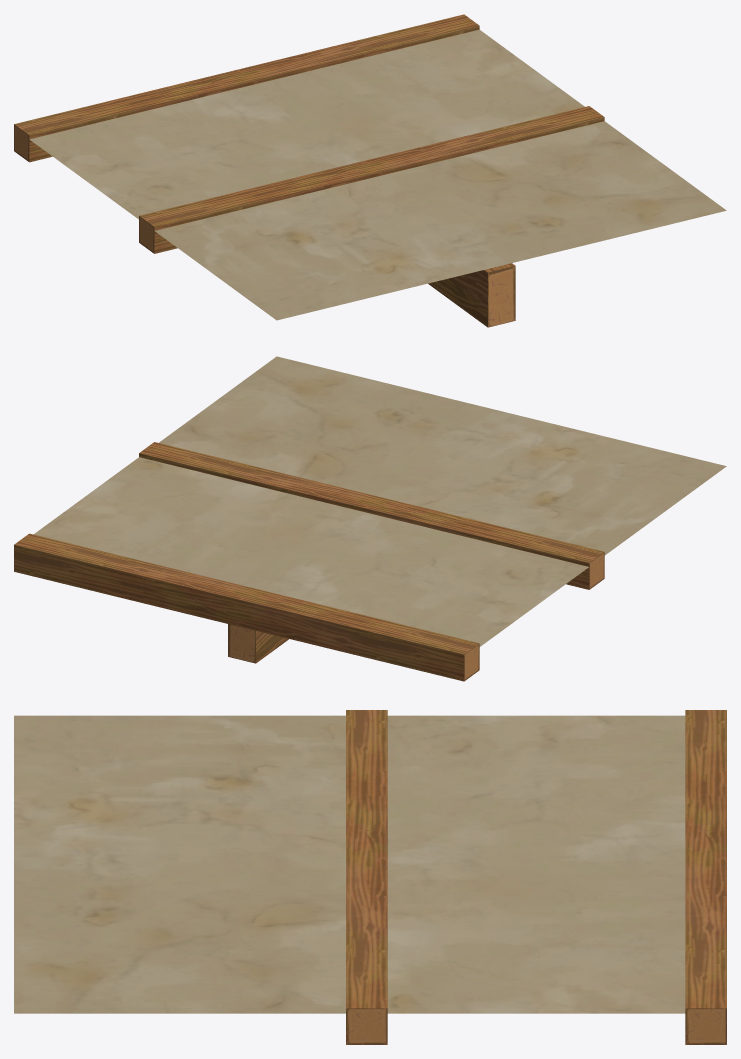
File: Overhang_Roof_Plaster.glb
3 views of the same model, one above another, from view 1: azimuth 30°, elevation 25°; view 2: azimuth 150°, elevation 25°; view 3: azimuth 270°, elevation 25° (orthographic). The views are drawn at different scales.
Visible parts, largest first — view 1: Overhang_Roof_Plaster; view 2: Overhang_Roof_Plaster; view 3: Overhang_Roof_Plaster.
Part boxes in pixels (left/top/right/bottom): Overhang_Roof_Plaster: left=14, top=14, right=726, bottom=327; Overhang_Roof_Plaster: left=14, top=356, right=726, bottom=681; Overhang_Roof_Plaster: left=14, top=710, right=726, bottom=1044.
Bounding box in the file's own units: 2 × 0.2658 × 2.02.
Materials: 2 (2 with a texture image).
